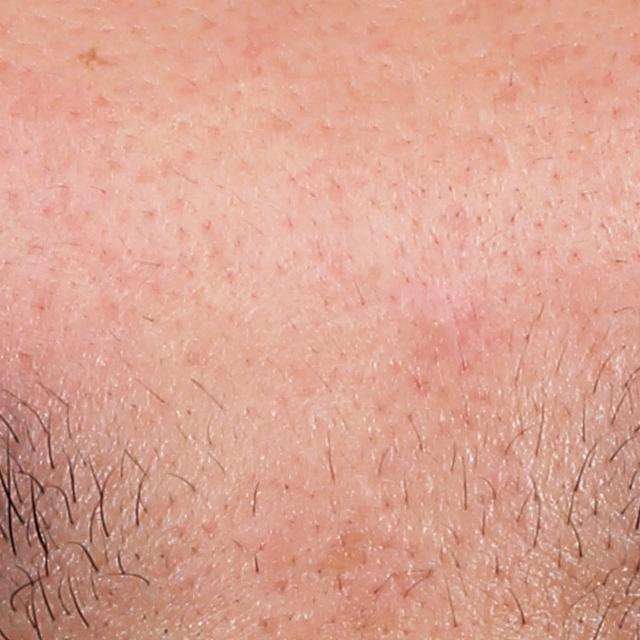atrophic_scar: (319, 534, 366, 581), (491, 74, 524, 110)
